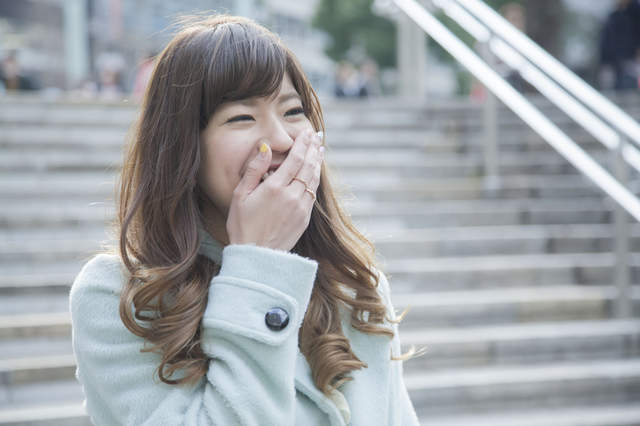face_mask: (196, 68, 320, 206)
